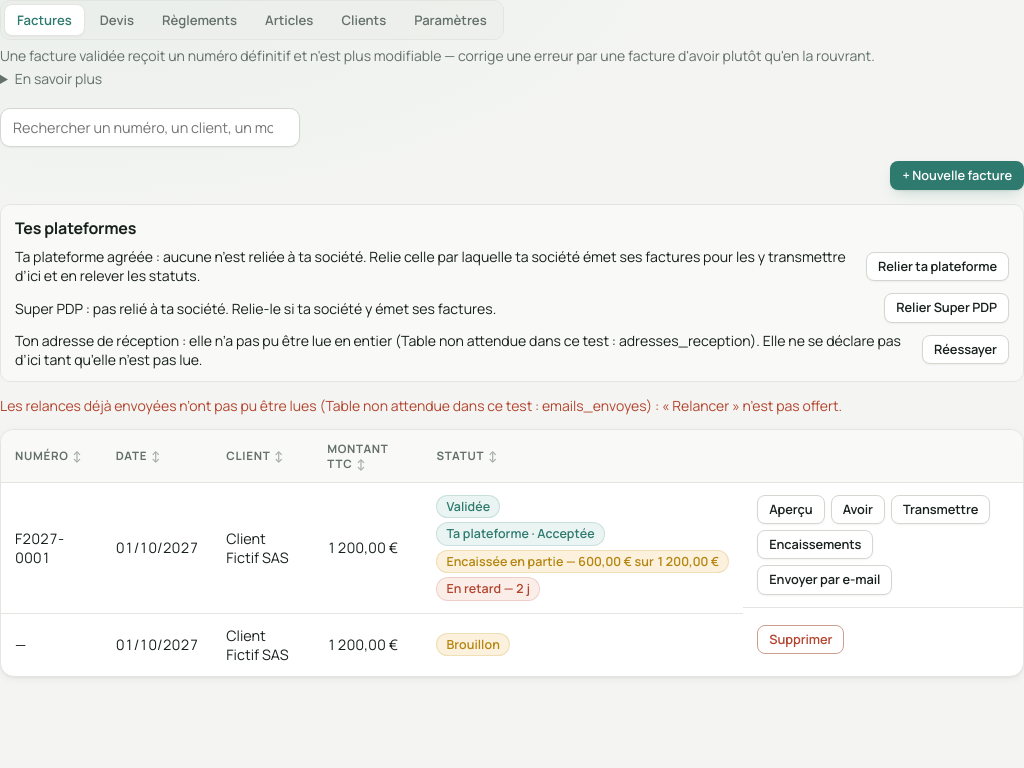
Test: FacturesTab en mode client — le garde des mots › la contre-passation d’un encaissement déclaré : rien du cabinet dans ce que lit le client
Expected: the text "F2027-0001" is shown, [15,529,64,567]
Click the button "Encaissements" at [815, 545], box [757,530,873,559]
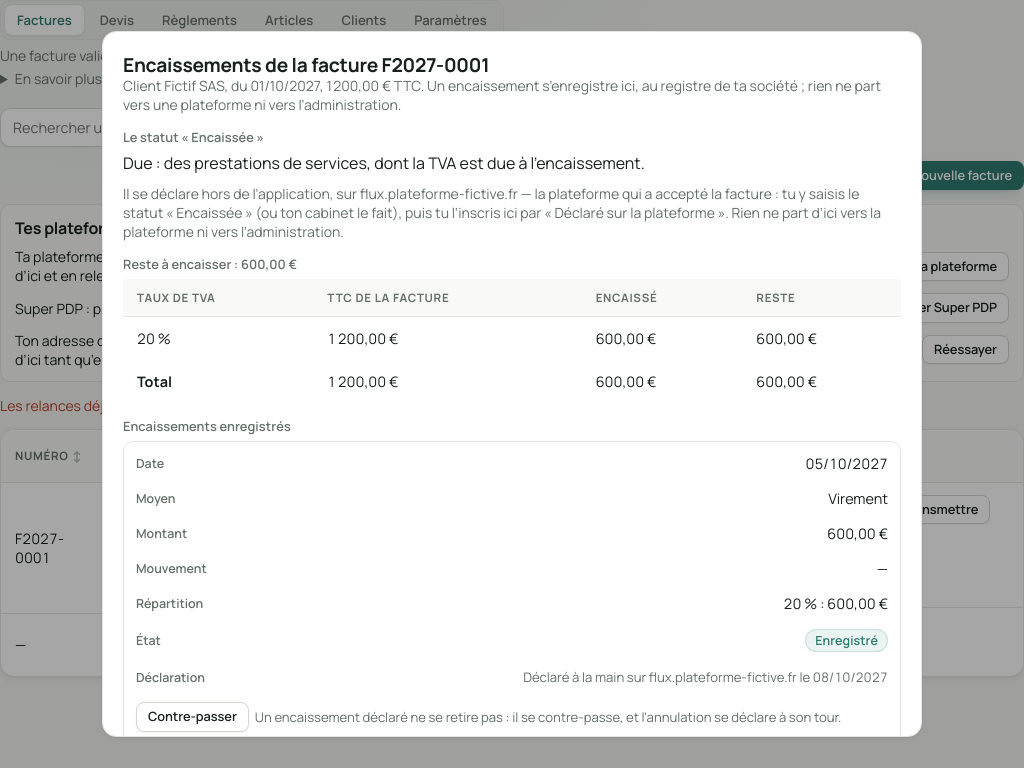
Click the button "Contre-passer" at [192, 717], box [136,702,249,732]
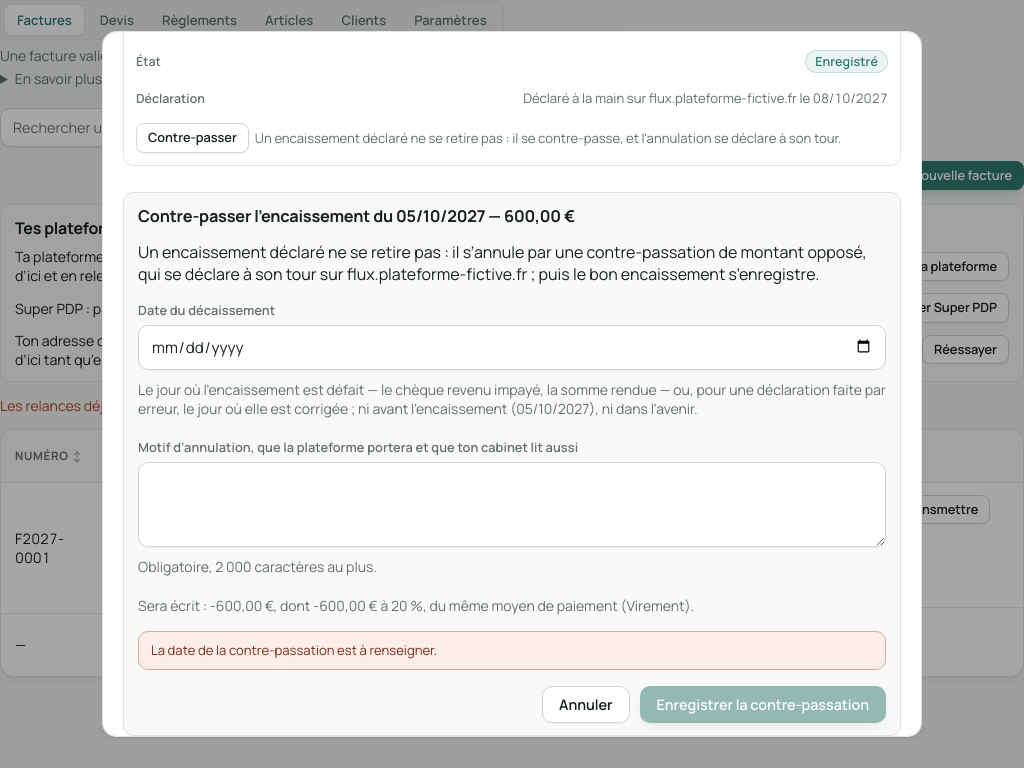
Now the button "Enregistrer la contre-passation" is shown, box [640,686,886,723]
